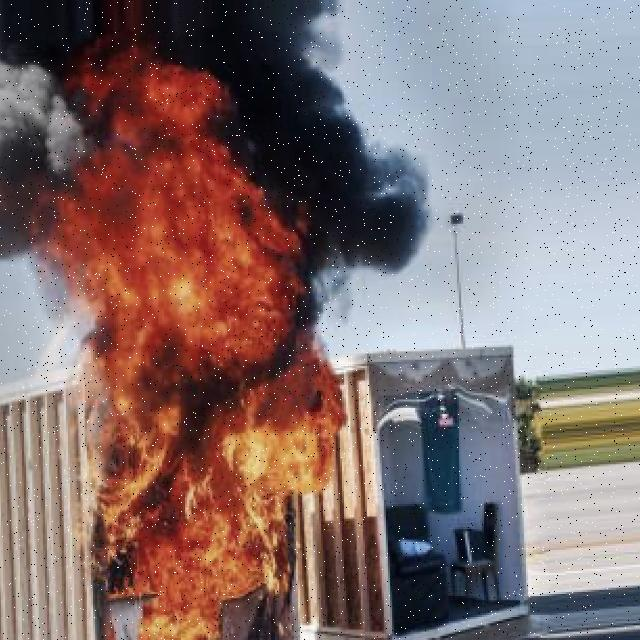fire: (39, 62, 328, 640)
smoke: (267, 57, 440, 278), (0, 29, 102, 290)
